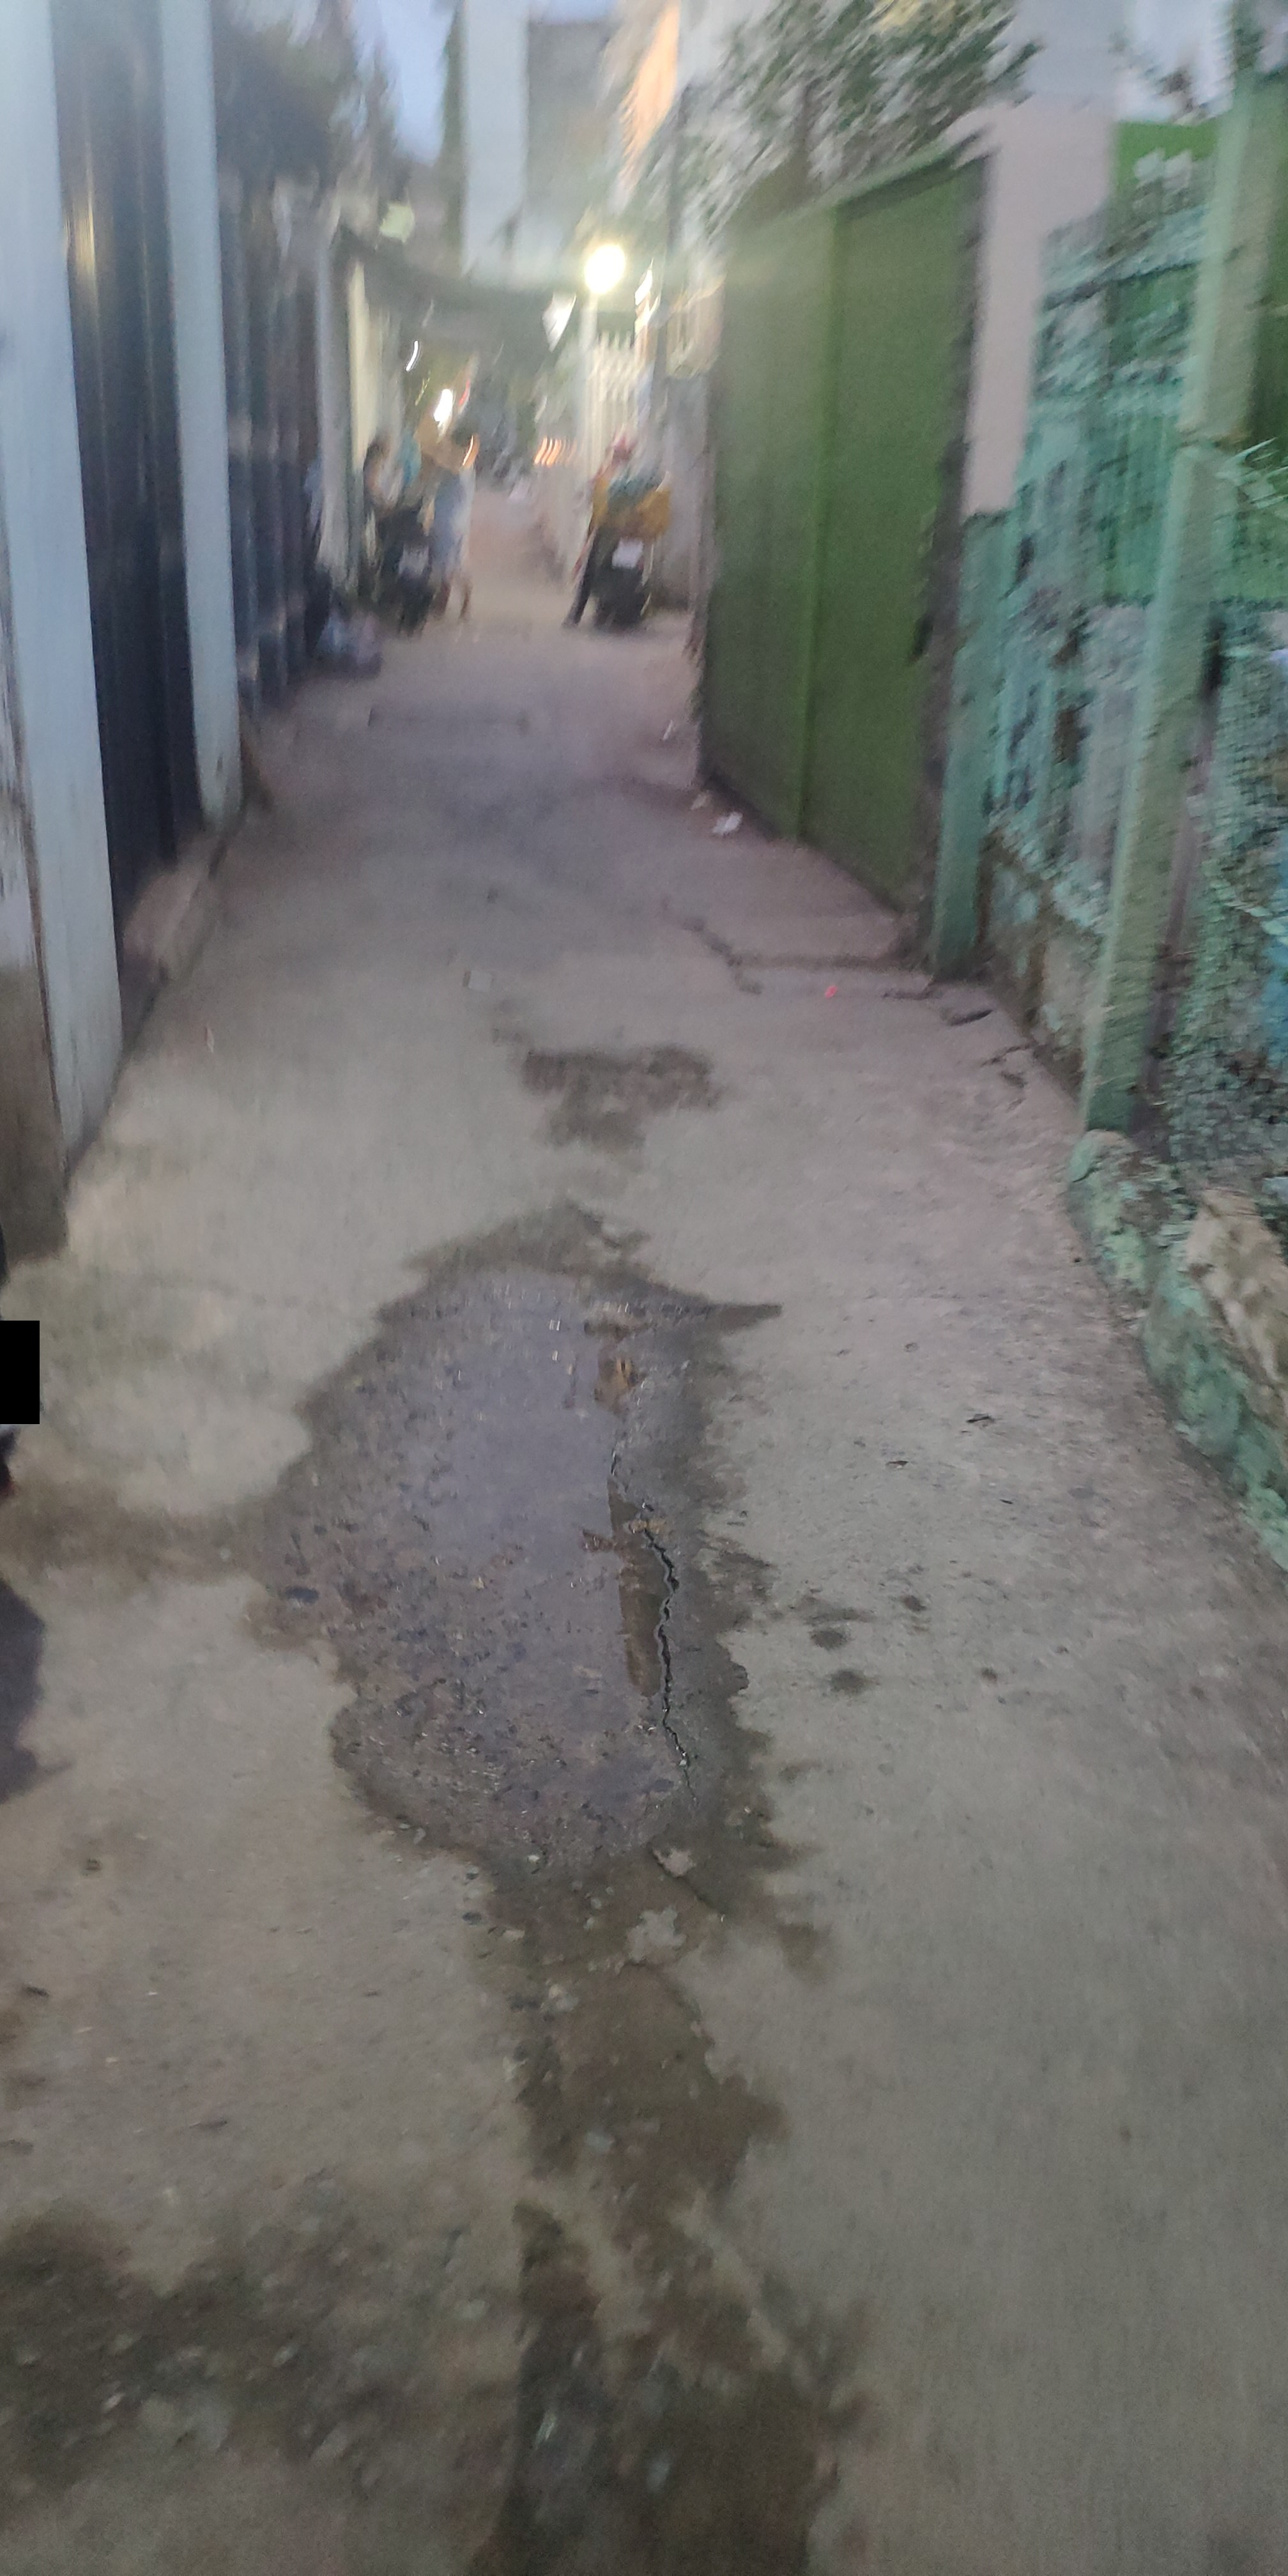hole: (255, 1229, 720, 1835)
